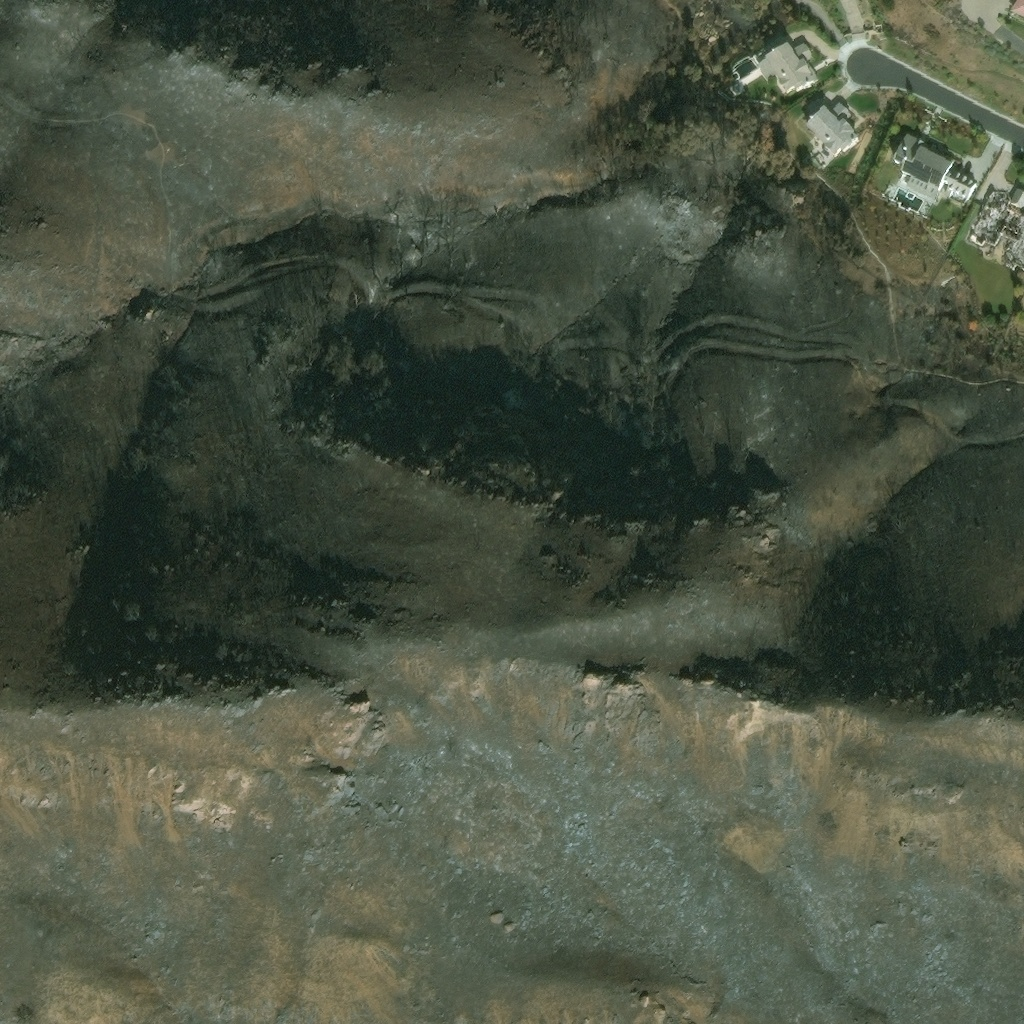0 no-damage: (890, 133, 980, 207), (757, 40, 821, 97), (804, 101, 860, 159)
3 destroyed: (969, 186, 1023, 271)
4 un-classified: (1011, 0, 1023, 15)
